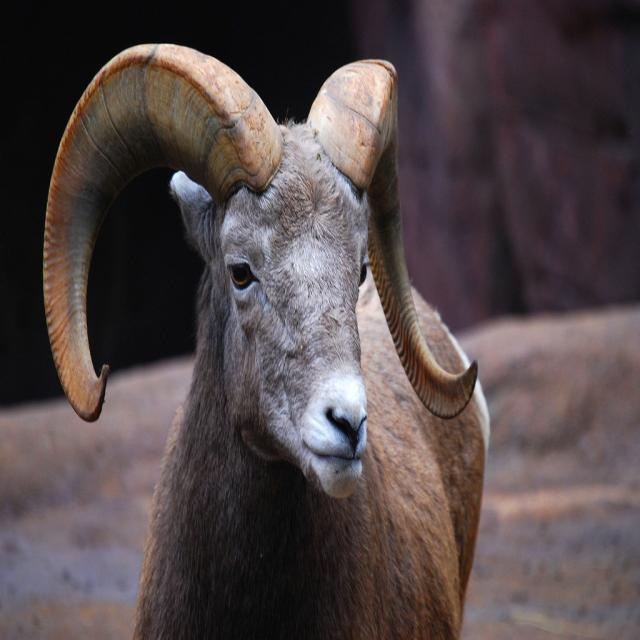Goat: (42, 43, 490, 640)
